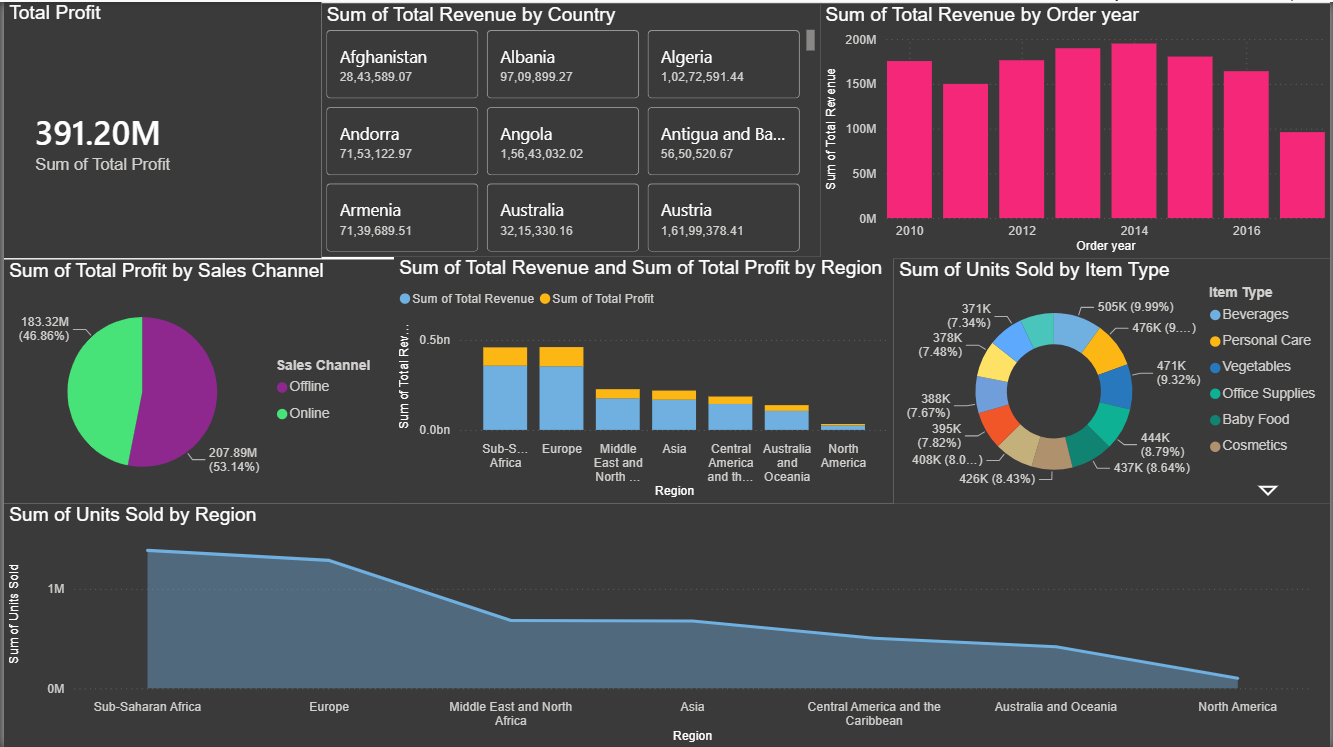

What the dashboard file says about the page in this screenshot:
{"tool":"powerbi","page":{"name":"Page 1","canvas":[1280,720],"ordinal":0},"visuals":[{"type":"advancedSlicerVisual","fields":{"Label":["Sum(New 1000 Sales Records (2).Total Revenue)"],"Values":["New 1000 Sales Records (2).Country"]},"box":[306.4,1.2,481.4,244.9],"z":0},{"type":"donutChart","fields":{"Category":["New 1000 Sales Records (2).Item Type"],"Y":["Sum(New 1000 Sales Records (2).Units Sold)"]},"box":[859,247.3,421,236.5],"z":1000},{"type":"columnChart","fields":{"Category":["New 1000 Sales Records (2).Region"],"Y":["Sum(New 1000 Sales Records (2).Total Revenue)","Sum(New 1000 Sales Records (2).Total Profit)"]},"box":[376.4,246.1,482.6,237.7],"z":2000},{"type":"pieChart","fields":{"Category":["New 1000 Sales Records (2).Sales Channel"],"Y":["Sum(New 1000 Sales Records (2).Total Profit)"]},"box":[0,248.5,376.4,235.3],"z":3000},{"type":"stackedAreaChart","fields":{"Category":["New 1000 Sales Records (2).Region"],"Y":["Sum(New 1000 Sales Records (2).Units Sold)"]},"box":[0,483.8,1280,236.5],"z":4000},{"type":"cardVisual","title":"Total Profit","fields":{"Data":["Sum(New 1000 Sales Records (2).Total Profit)"]},"box":[0,0,306.4,247.3],"z":5000},{"type":"clusteredColumnChart","fields":{"Category":["New 1000 Sales Records (2).Order year"],"Y":["Sum(New 1000 Sales Records (2).Total Revenue)"]},"box":[787.8,1.2,492.2,246.1],"z":6000}]}

Visuals, with their boxes in screenshot pixels (x1, y1, x2, y2), scaled from the page's 1280x720 canvas onto the 1333x747 screenshot:
advancedSlicerVisual - Sum(New 1000 Sales Records (2).Total Revenue) x New 1000 Sales Records (2).Country: (319, 1, 820, 255)
donutChart - New 1000 Sales Records (2).Item Type x Sum(New 1000 Sales Records (2).Units Sold): (895, 257, 1332, 502)
columnChart - New 1000 Sales Records (2).Region x Sum(New 1000 Sales Records (2).Total Revenue): (392, 255, 895, 502)
pieChart - New 1000 Sales Records (2).Sales Channel x Sum(New 1000 Sales Records (2).Total Profit): (0, 258, 392, 502)
stackedAreaChart - New 1000 Sales Records (2).Region x Sum(New 1000 Sales Records (2).Units Sold): (0, 502, 1332, 746)
"Total Profit" cardVisual: (0, 0, 319, 257)
clusteredColumnChart - New 1000 Sales Records (2).Order year x Sum(New 1000 Sales Records (2).Total Revenue): (820, 1, 1332, 257)
